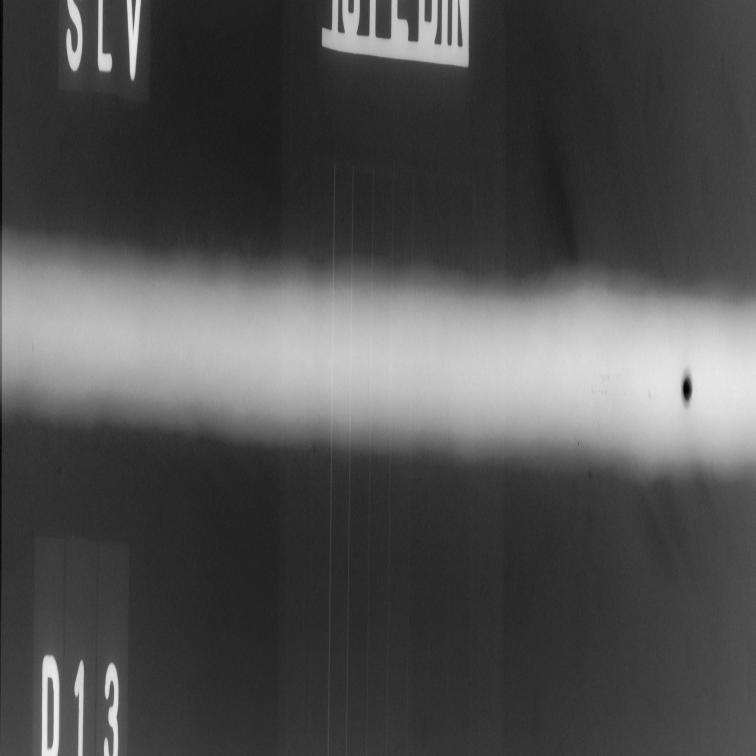IE: (589, 367, 630, 405)
PO: (679, 356, 694, 414), (30, 337, 36, 357), (647, 387, 652, 402)
